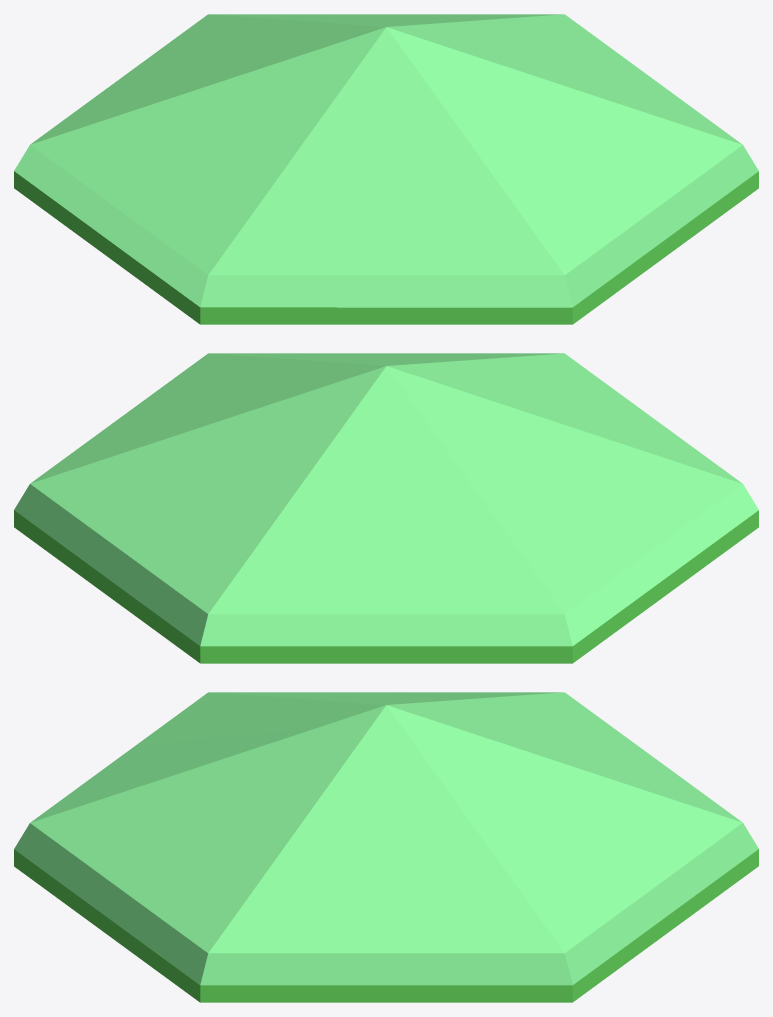
File: josh_model.fbx
The picture shows the model from 3 angles, top to bottom: view 1: azimuth 30°, elevation 25°; view 2: azimuth 150°, elevation 25°; view 3: azimuth 270°, elevation 25°; orthographic projection.
Visible parts, largest first — view 1: Dome; view 2: Dome; view 3: Dome.
Boxes of the visible parts, box(x1,y1,x2,y2) form: Dome: box(14, 14, 758, 324); Dome: box(14, 353, 758, 663); Dome: box(14, 692, 758, 1002).
Size of the model in its own units: 349 by 99.41 by 403.
